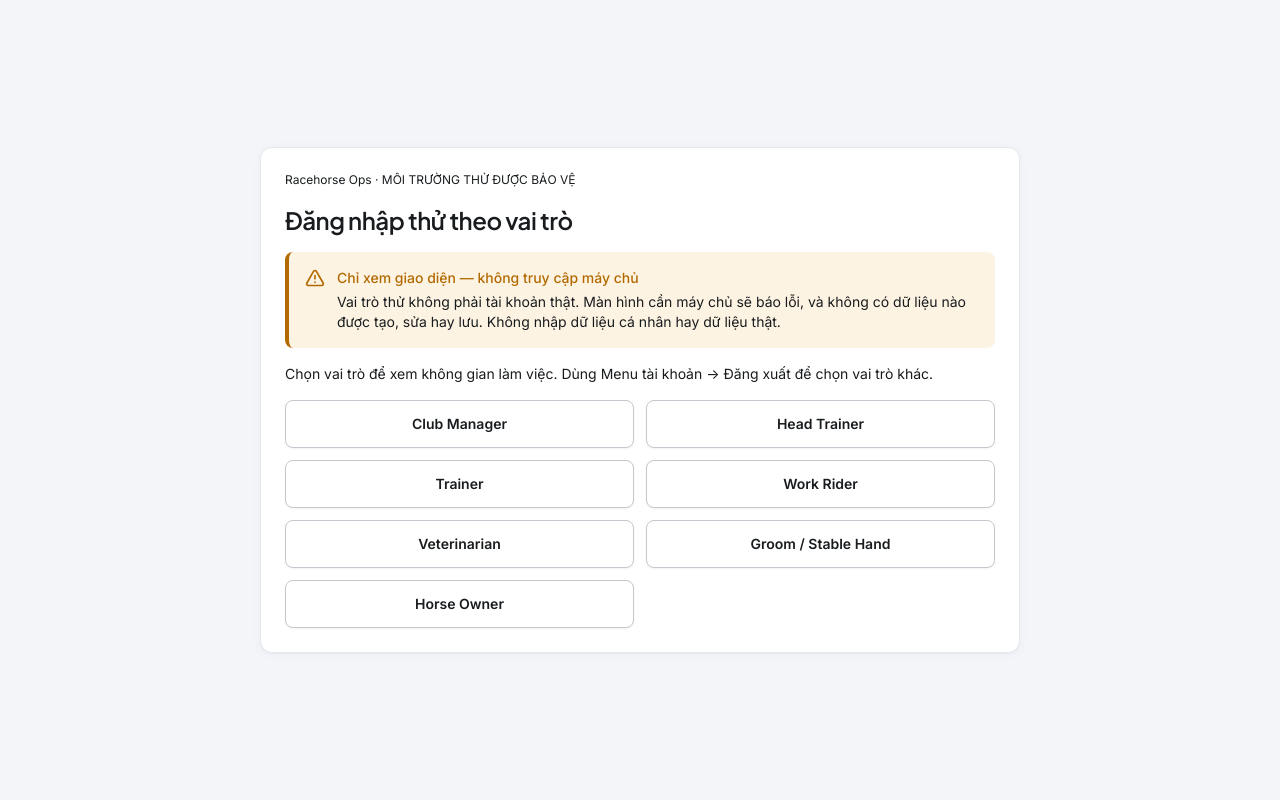
Scenario: opens the TRAINER workspace without credentials, network or sample data
Expected: the heading "Đăng nhập thử theo vai trò" is shown, [285, 205, 573, 235]
Click the button "Trainer" at (460, 484), box [285, 460, 634, 508]
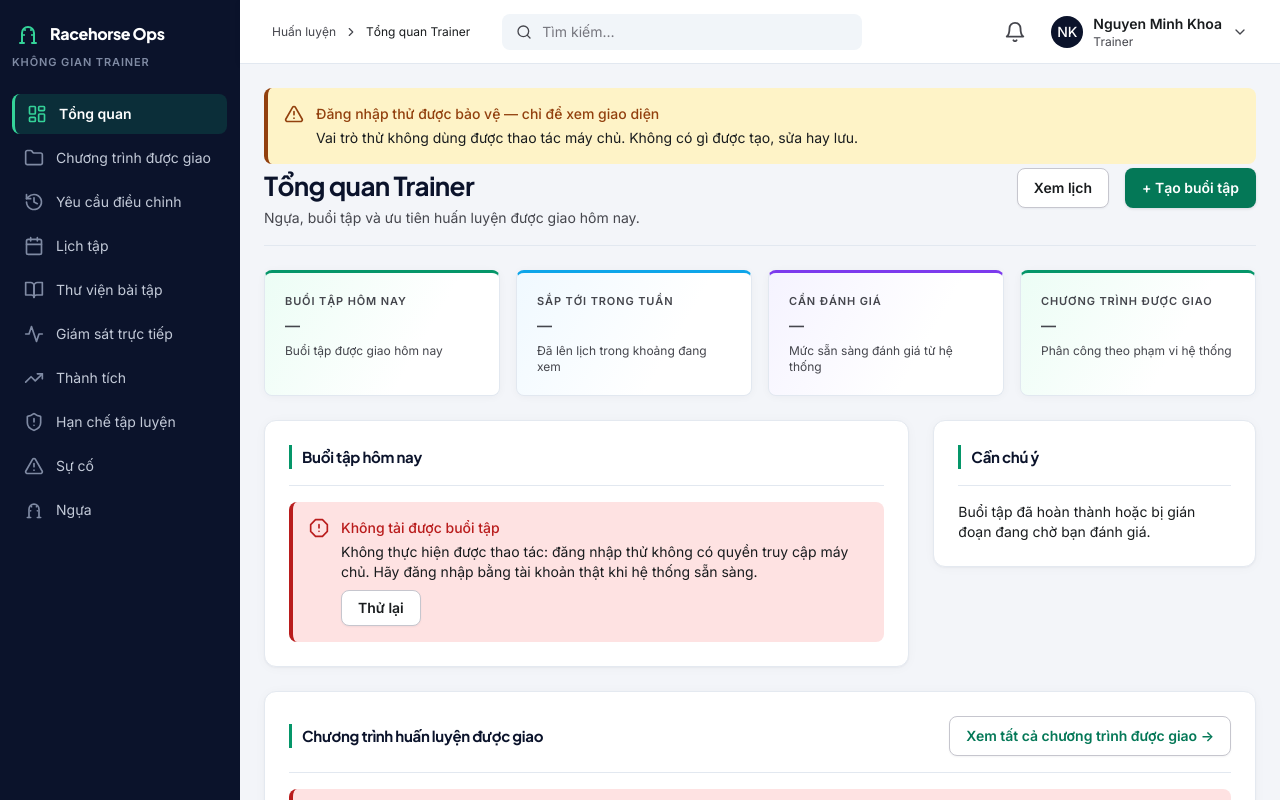
Now the heading "Tổng quan Trainer" is shown, box [264, 169, 474, 202]
Now the text "Đăng nhập thử được bảo vệ — chỉ để xem giao diện" is shown, box [316, 105, 659, 122]
